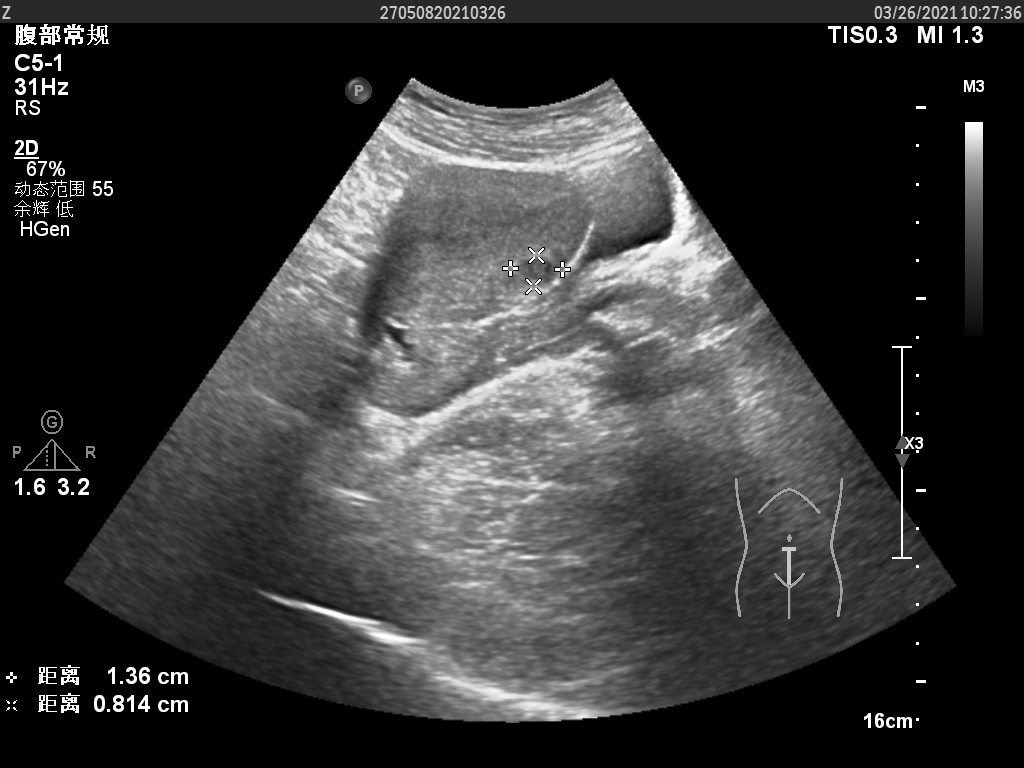肌瘤: (517, 261, 553, 282)
